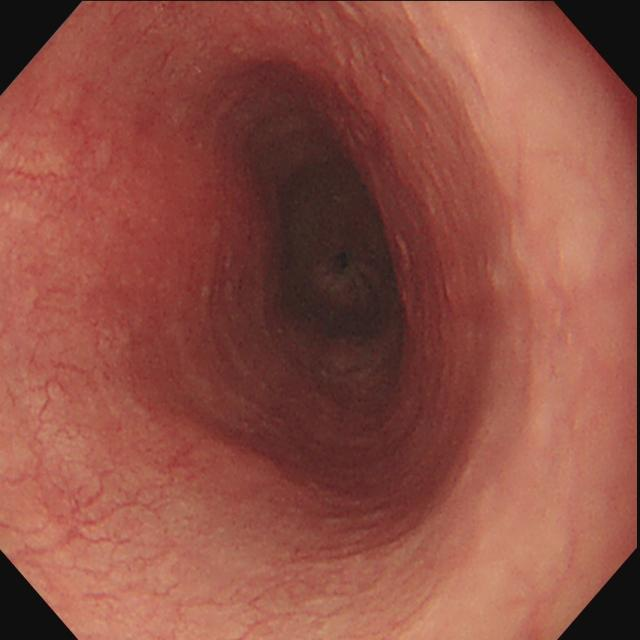E: (254, 160, 402, 356)
